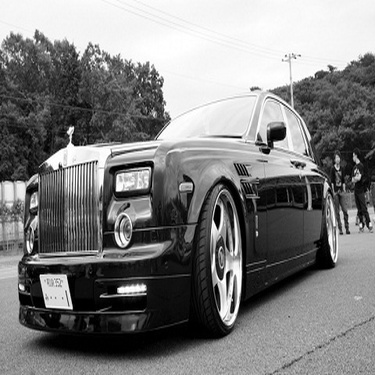car: (9, 84, 347, 356)
